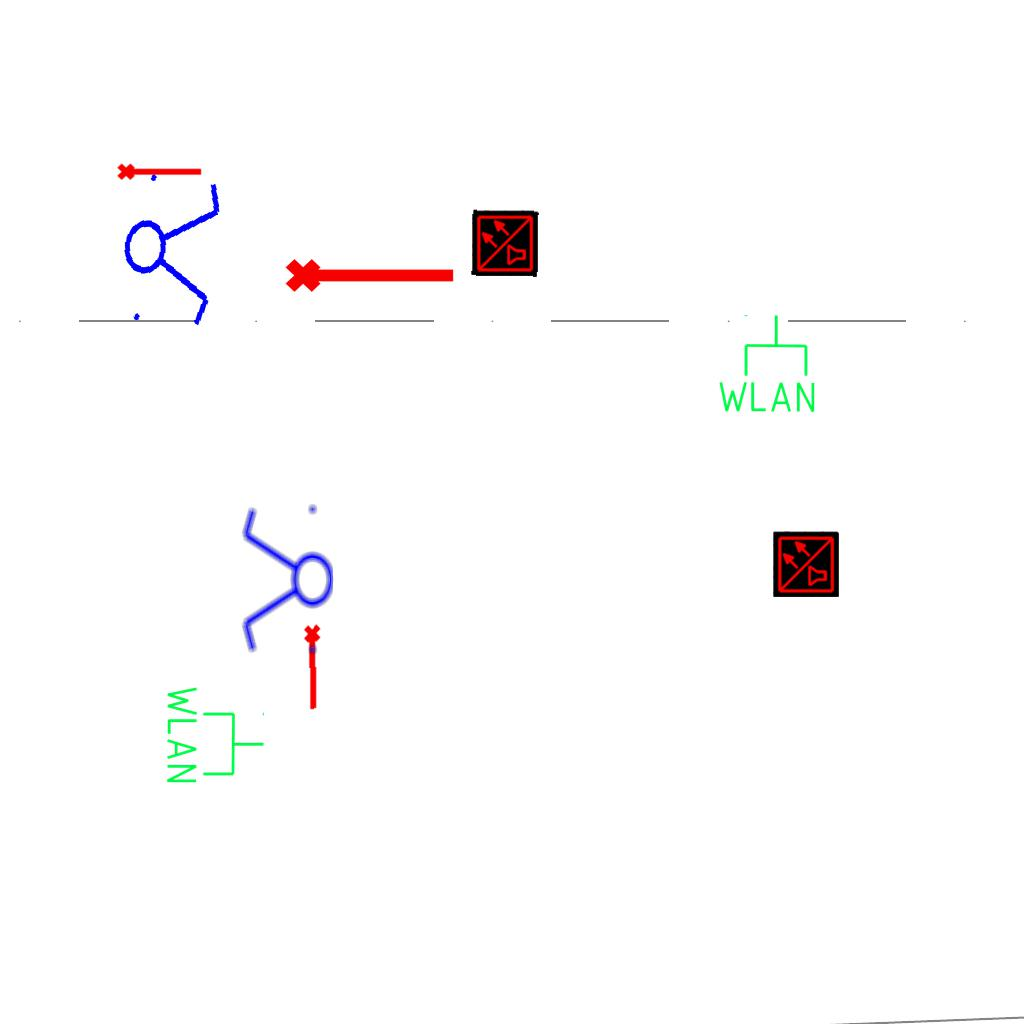ASR_Ansaugoeffnung: (283, 250, 459, 296), (301, 623, 327, 712), (116, 159, 204, 182)
OKW_Multisensormelder_(Kombination_optischer_Rauch-Kahlenmonoxid_Waerme-Melder): (471, 209, 539, 277), (773, 531, 839, 597)
Serienschalter: (113, 159, 229, 339), (239, 497, 335, 665)
WLAN: (714, 312, 819, 416), (163, 682, 267, 787)
